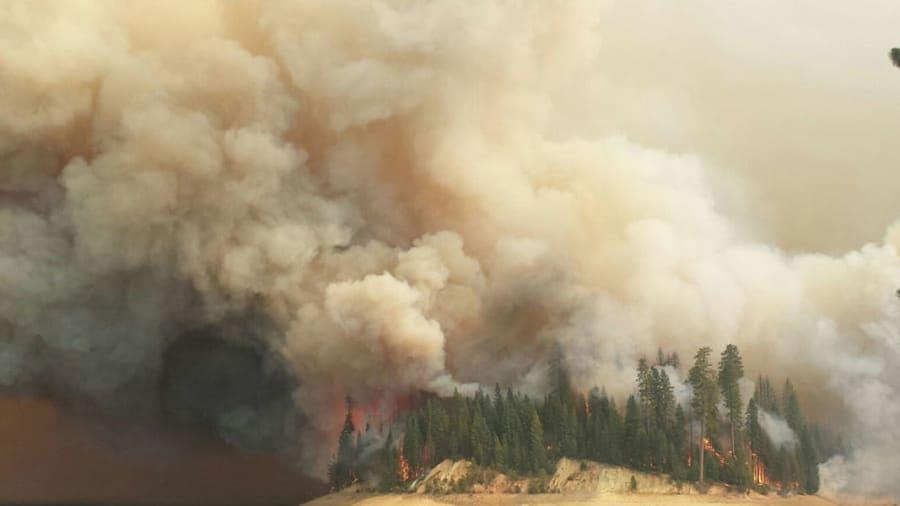smoke: (15, 9, 888, 413)
